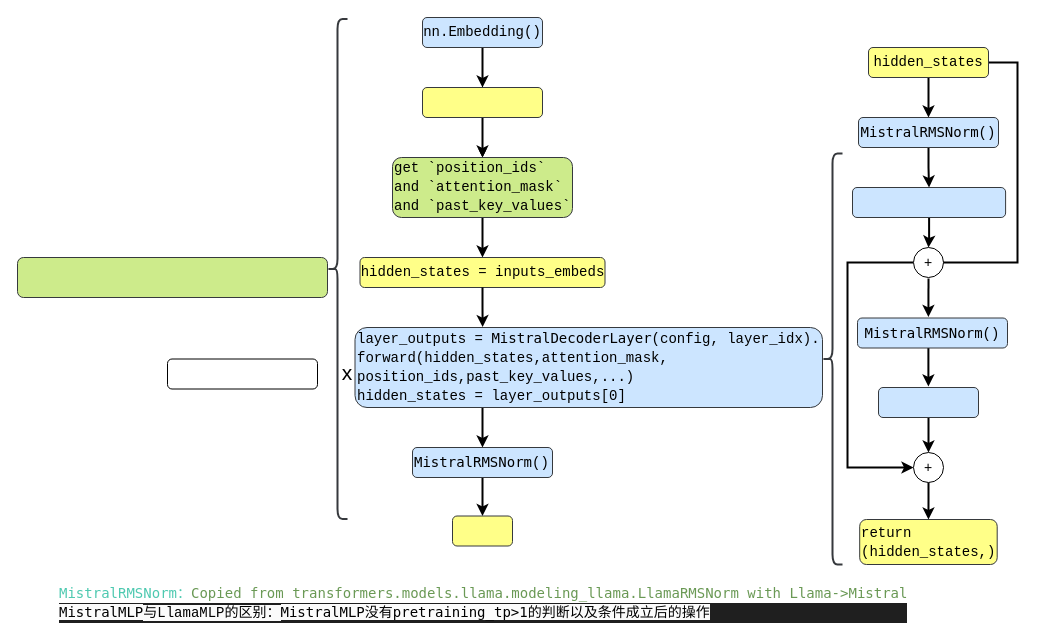
Image size: 1044x641. Some labels were removed from this diagram. The centre of each missing label's shape, as x and y in pixels:
"inputs_embeds" goes at pixel 482 102.
"MistralAttention ()" goes at pixel 929 202.
"MistralMLP ()" goes at pixel 928 402.
"MistralModel ( MistralPreTrainedModel ) . forward(input_ids)" goes at pixel 172 277.
"num_hidden_layers" goes at pixel 242 373.
"return" goes at pixel 482 530.
